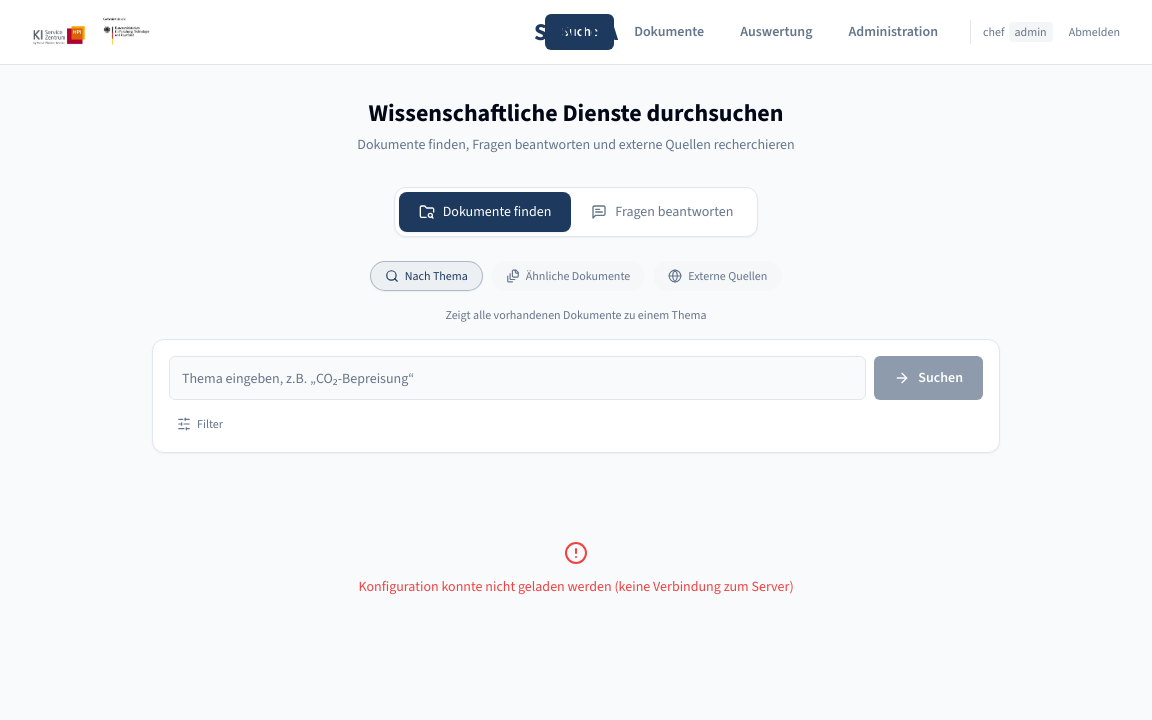
who is signed in › can sign out, and lands back at the login
Expected: the button "Suche" is shown, [545,14,614,50]
Click the button "Abmelden".
click(1094, 32)  # box [1061,20,1128,44]
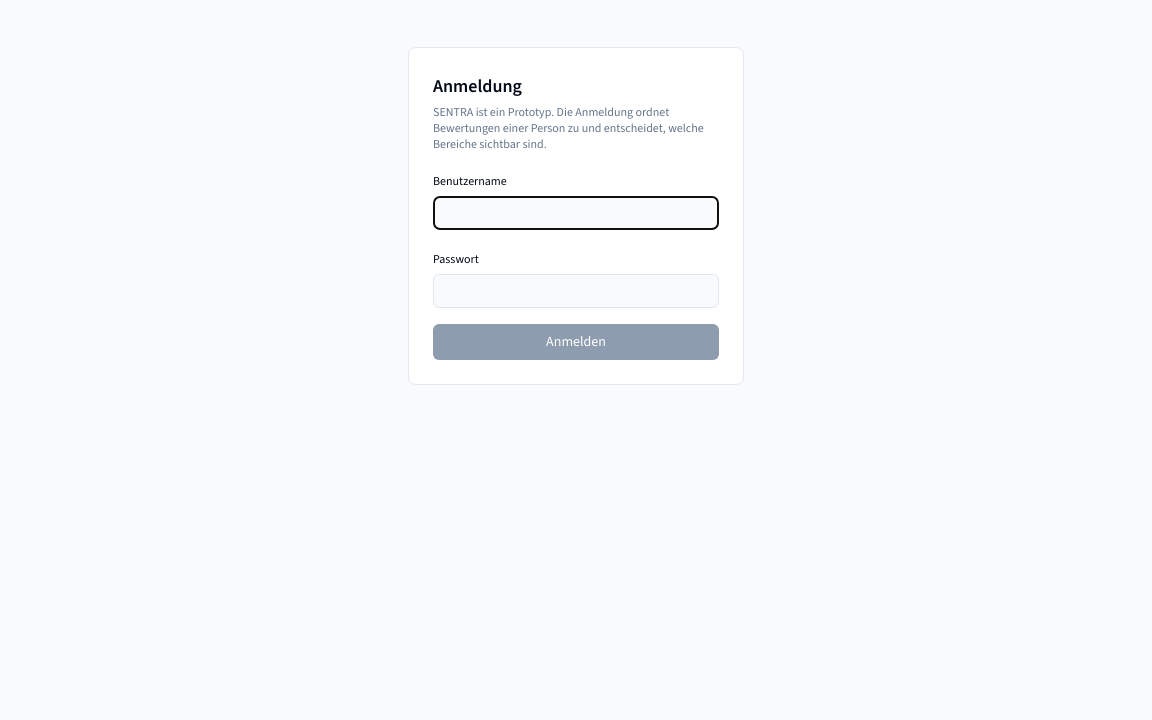
Expected: the button "Anmelden" is shown, [433,324,719,360]
